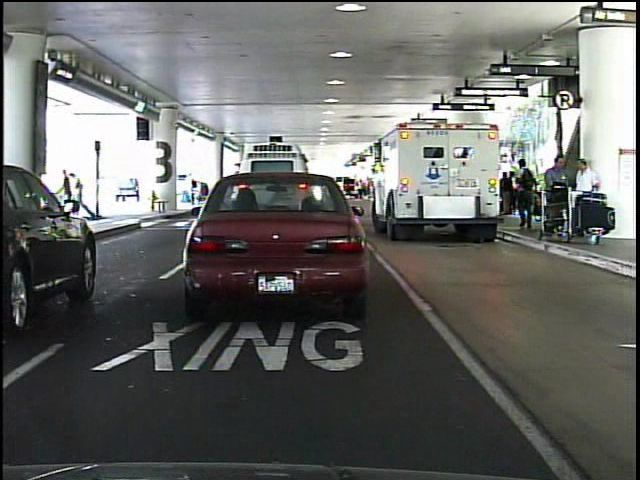person: (56, 168, 77, 225), (67, 167, 88, 221)
